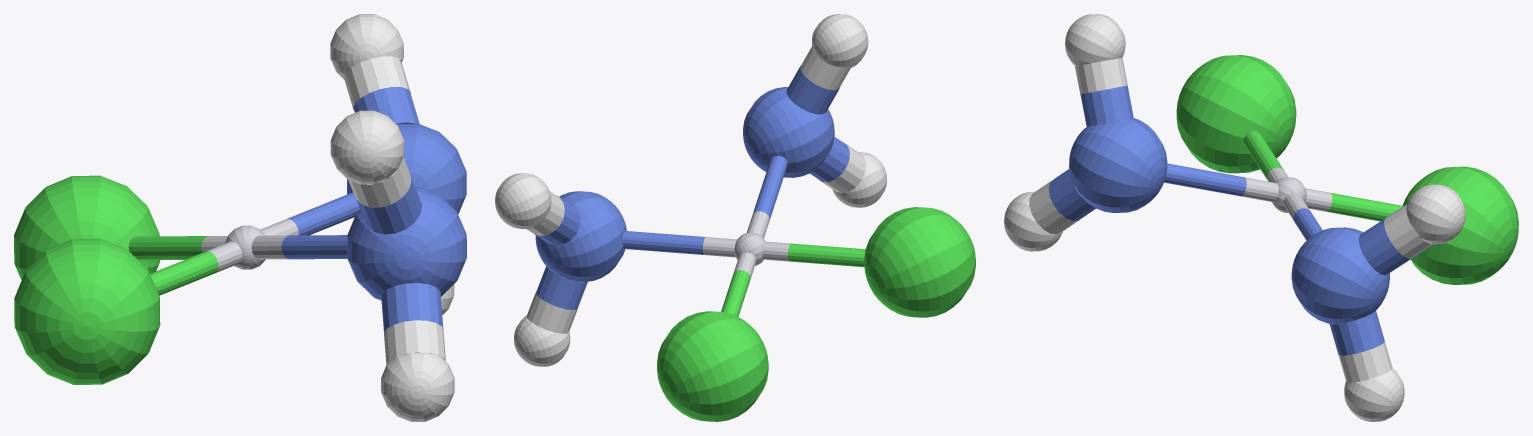
File: cisplatin.gltf
3 renders of one model, left to right at view 1: azimuth 30°, elevation 25°; view 2: azimuth 150°, elevation 25°; view 3: azimuth 270°, elevation 25°, orthographic. The views are drawn at different scales.
Parts seen in each view (by area): view 1: ShapeSphere_ShapeSphere.001, ShapeSphere.008_ShapeSphere, ShapeSphere.002_ShapeSphere.003, ShapeSphere.003_ShapeSphere.004, ShapeSphere.004_ShapeSphere.005, ShapeSphere.005_ShapeSphere.006, ShapeSphere.006_ShapeSphere.007, ShapeCylinder.007, ShapeCylinder.006, ShapeCylinder.010, ShapeCylinder.005, ShapeCylinder.014 (+9 smaller); view 2: ShapeSphere.008_ShapeSphere, ShapeSphere_ShapeSphere.001, ShapeSphere.002_ShapeSphere.003, ShapeSphere.005_ShapeSphere.006, ShapeSphere.006_ShapeSphere.007, ShapeSphere.003_ShapeSphere.004, ShapeSphere.007_ShapeSphere.008, ShapeCylinder.009, ShapeSphere.004_ShapeSphere.005, ShapeCylinder, ShapeCylinder.013, ShapeCylinder.005 (+11 smaller); view 3: ShapeSphere_ShapeSphere.001, ShapeSphere.008_ShapeSphere, ShapeSphere.002_ShapeSphere.003, ShapeSphere.005_ShapeSphere.006, ShapeSphere.006_ShapeSphere.007, ShapeSphere.003_ShapeSphere.004, ShapeSphere.007_ShapeSphere.008, ShapeSphere.004_ShapeSphere.005, ShapeCylinder.005, ShapeCylinder.013, ShapeCylinder.003, ShapeCylinder.011 (+11 smaller).
Part boxes in pixels (x1,y1,x2,y2): ShapeSphere_ShapeSphere.001: (14, 239, 160, 384); ShapeSphere.008_ShapeSphere: (14, 175, 159, 279); ShapeSphere.002_ShapeSphere.003: (347, 186, 466, 300); ShapeSphere.003_ShapeSphere.004: (330, 110, 404, 184); ShapeSphere.004_ShapeSphere.005: (381, 352, 454, 421); ShapeSphere.005_ShapeSphere.006: (347, 123, 466, 214); ShapeSphere.006_ShapeSphere.007: (330, 14, 403, 79); ShapeCylinder.007: (381, 283, 443, 332); ShapeCylinder.006: (384, 320, 445, 364); ShapeCylinder.010: (344, 56, 410, 109); ShapeCylinder.005: (356, 176, 421, 234); ShapeCylinder.014: (128, 236, 208, 260); ShapeSphere.008_ShapeSphere: (657, 311, 768, 421); ShapeSphere_ShapeSphere.001: (864, 207, 975, 317); ShapeSphere.002_ShapeSphere.003: (743, 87, 834, 177); ShapeSphere.005_ShapeSphere.006: (535, 191, 626, 281); ShapeSphere.006_ShapeSphere.007: (495, 173, 551, 228); ShapeSphere.003_ShapeSphere.004: (812, 14, 868, 68); ShapeSphere.007_ShapeSphere.008: (514, 315, 570, 366); ShapeCylinder.009: (622, 231, 705, 254); ShapeSphere.004_ShapeSphere.005: (832, 152, 886, 207); ShapeCylinder: (788, 243, 865, 267); ShapeCylinder.013: (536, 266, 587, 309); ShapeCylinder.005: (786, 65, 839, 114); ShapeSphere_ShapeSphere.001: (1176, 55, 1296, 173); ShapeSphere.008_ShapeSphere: (1402, 166, 1518, 284); ShapeSphere.002_ShapeSphere.003: (1069, 118, 1167, 212); ShapeSphere.005_ShapeSphere.006: (1291, 227, 1389, 324); ShapeSphere.006_ShapeSphere.007: (1406, 184, 1465, 244); ShapeSphere.003_ShapeSphere.004: (1065, 14, 1125, 66); ShapeSphere.007_ShapeSphere.008: (1344, 368, 1404, 421); ShapeSphere.004_ShapeSphere.005: (1004, 191, 1062, 251); ShapeCylinder.005: (1080, 85, 1133, 126); ShapeCylinder.013: (1329, 311, 1384, 355); ShapeCylinder.003: (1164, 163, 1246, 196); ShapeCylinder.011: (1358, 218, 1411, 275).
Size of the model in its own units: 3.94 by 2.85 by 4.24.
